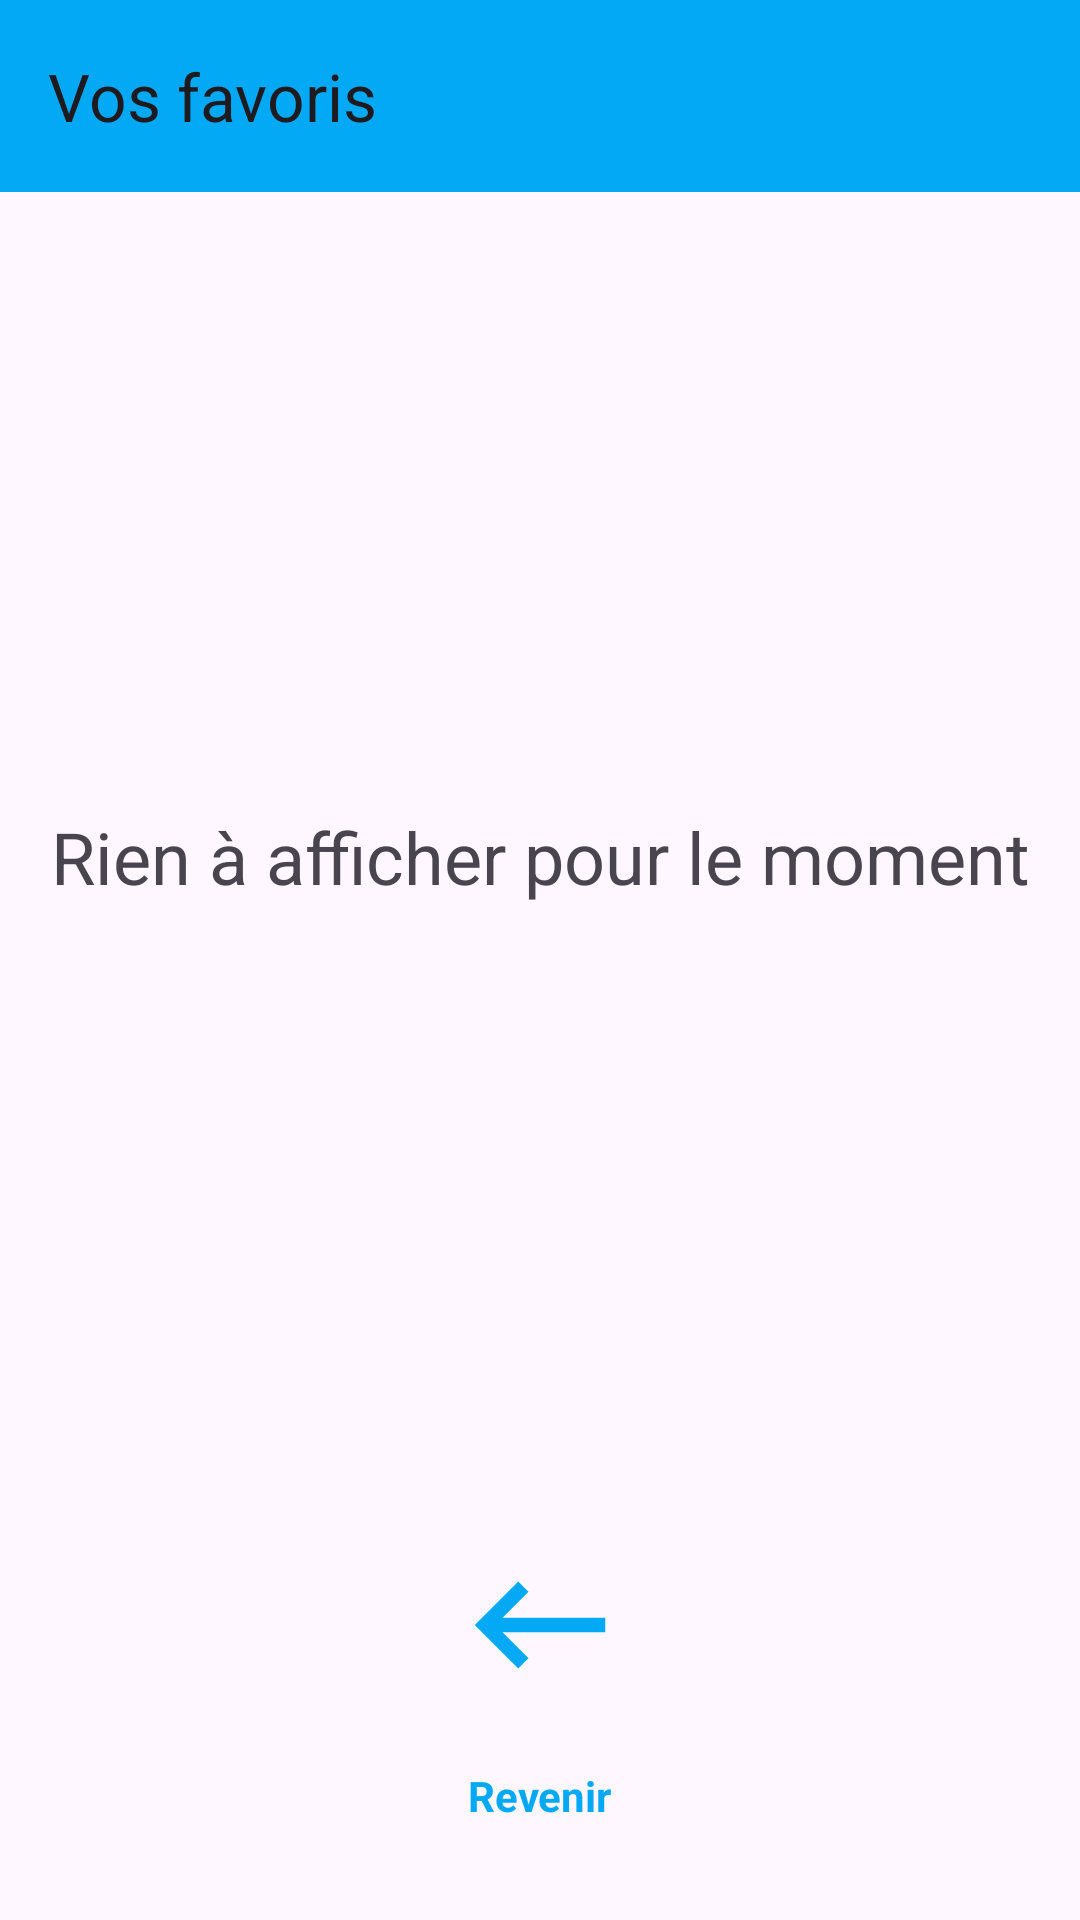

Where icons sit on this 1080×1920 app screen, as [x1, y1, x2, y2]:
keyboard backspace: [475, 1581, 606, 1669]
